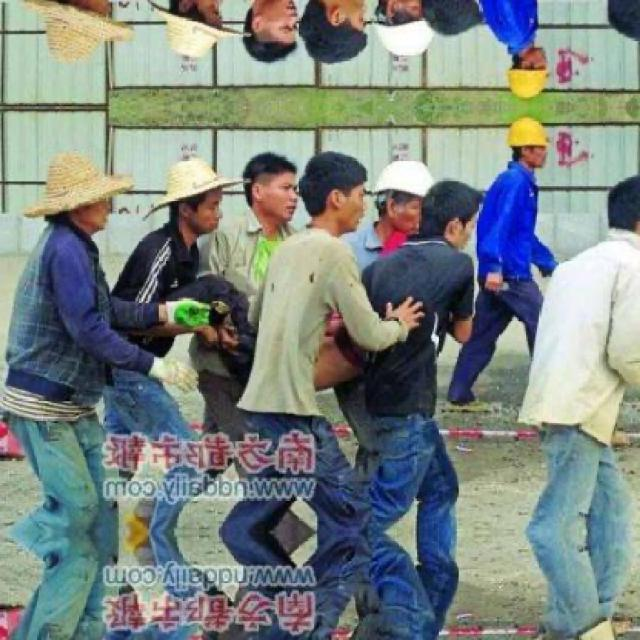helmet: (374, 154, 438, 234), (372, 0, 438, 60), (506, 46, 554, 99), (506, 114, 554, 166)
